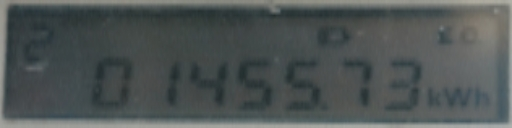0: (87, 50, 137, 120)
1: (160, 50, 187, 114)
3: (383, 49, 423, 121)
4: (190, 48, 230, 120)
5: (232, 48, 272, 120), (279, 47, 319, 119)
7: (339, 47, 379, 119)
d: (320, 101, 337, 117)
